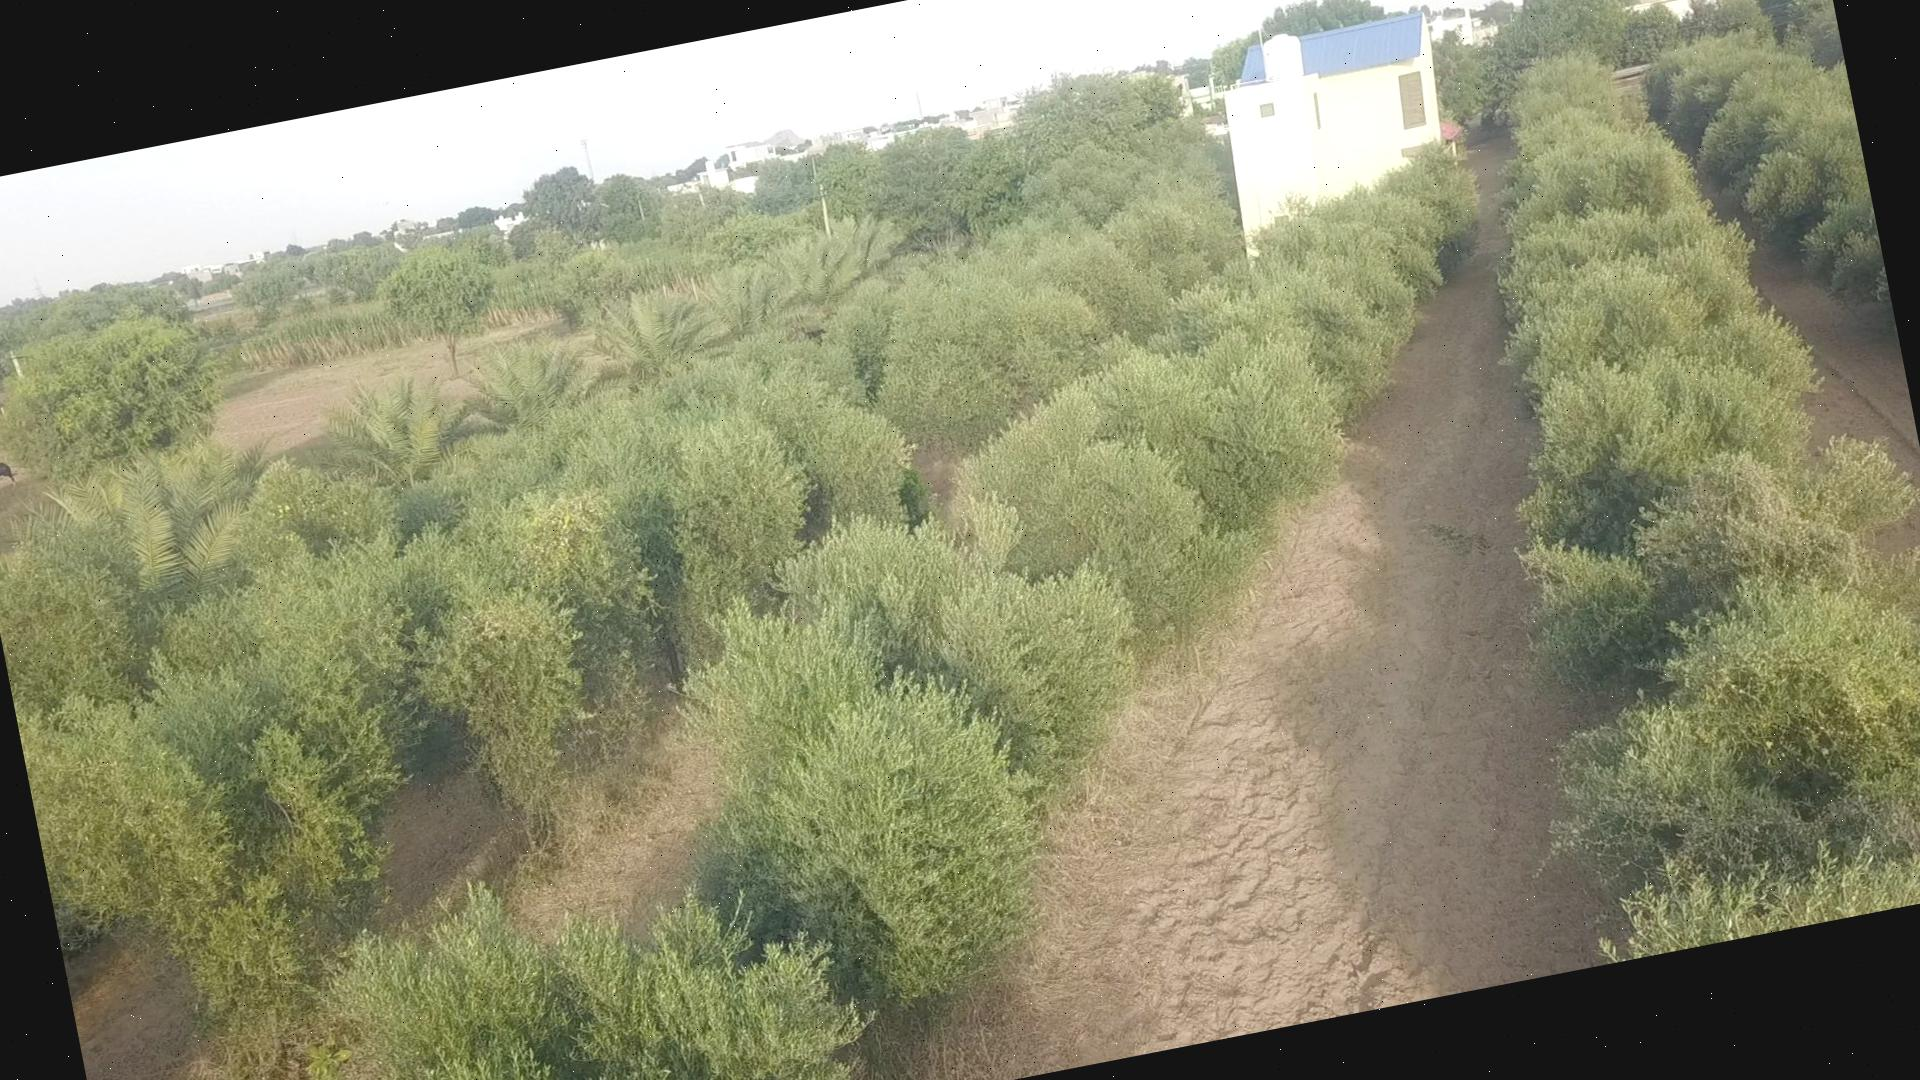canopy: (0, 189, 1242, 1048), (345, 145, 1477, 1080), (1499, 53, 1920, 957), (1646, 33, 1888, 298)
road: (887, 141, 1602, 1080), (281, 731, 720, 1080), (1751, 251, 1920, 488), (71, 948, 240, 1080)
